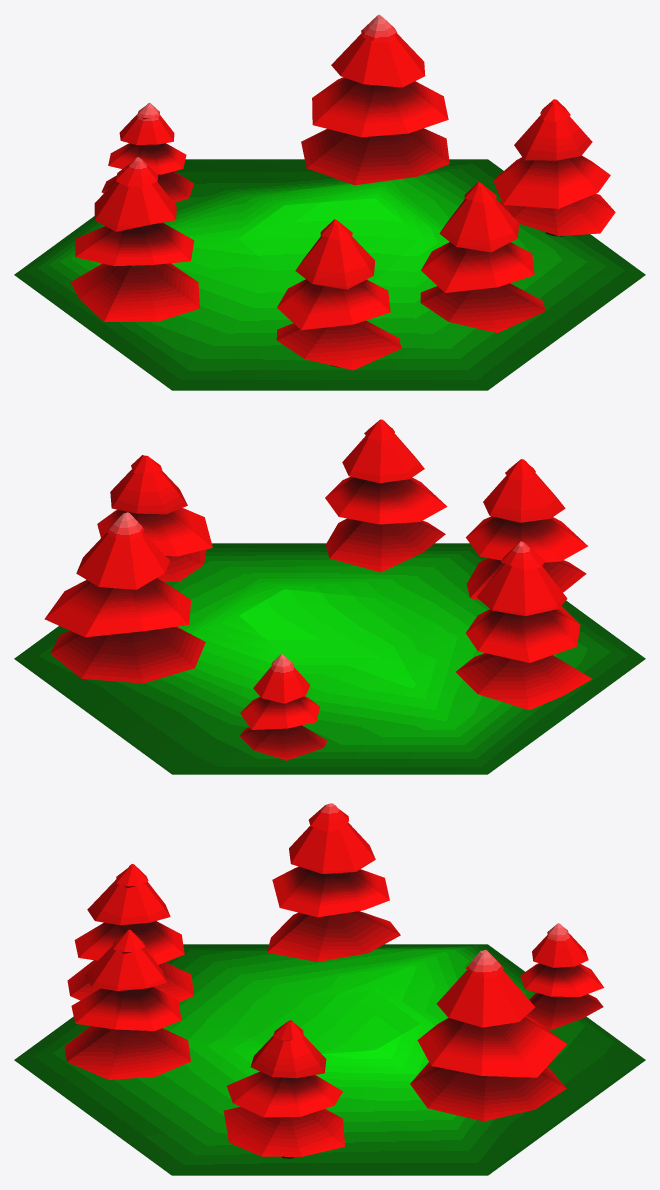
File: ForrestCol.fbx
3 renders of one model, top to bottom at view 1: azimuth 30°, elevation 25°; view 2: azimuth 150°, elevation 25°; view 3: azimuth 270°, elevation 25°, orthographic.
Visible parts, largest first — view 1: Ground, Tree_Bottom_Leaves, Tree_Leaves_Middle, Tree_Bottom_Leaves.005, Tree_Leaves_Middle.001, Tree_Leaves_Middle.002, Tree_Leaves_Middle.003, Tree_Leaves_Top, Tree_Bottom_Leaves.002, Tree_Leaves_Middle.005, Tree_Bottom_Leaves.003, Tree_Leaves_Top.005 (+7 smaller); view 2: Ground, Tree_Bottom_Leaves, Tree_Leaves_Middle, Tree_Bottom_Leaves.005, Tree_Leaves_Middle.005, Tree_Leaves_Top, Tree_Bottom_Leaves.002, Tree_Leaves_Middle.002, Tree_Leaves_Top.005, Tree_Leaves_Middle.003, Tree_Leaves_Top.002, Tree_Leaves_Top.003 (+7 smaller); view 3: Ground, Tree_Leaves_Middle, Tree_Bottom_Leaves, Tree_Bottom_Leaves.002, Tree_Bottom_Leaves.005, Tree_Bottom_Leaves.001, Tree_Leaves_Middle.005, Tree_Leaves_Top, Tree_Leaves_Top.005, Tree_Leaves_Middle.002, Tree_Leaves_Middle.001, Tree_Leaves_Top.003 (+7 smaller).
Part boxes in pixels (x1=…): Ground: x1=14, y1=159, x2=645, y2=390; Tree_Bottom_Leaves: x1=301, y1=128, x2=449, y2=185; Tree_Leaves_Middle: x1=312, y1=77, x2=448, y2=137; Tree_Bottom_Leaves.005: x1=70, y1=263, x2=199, y2=321; Tree_Leaves_Middle.001: x1=493, y1=155, x2=610, y2=208; Tree_Leaves_Middle.002: x1=421, y1=242, x2=534, y2=292; Tree_Leaves_Middle.003: x1=277, y1=279, x2=390, y2=330; Tree_Leaves_Top: x1=331, y1=14, x2=425, y2=87; Tree_Bottom_Leaves.002: x1=420, y1=283, x2=545, y2=332; Tree_Leaves_Middle.005: x1=75, y1=222, x2=194, y2=266; Tree_Bottom_Leaves.003: x1=276, y1=320, x2=401, y2=370; Tree_Leaves_Top.005: x1=94, y1=157, x2=176, y2=231; Ground: x1=14, y1=543, x2=645, y2=774; Tree_Bottom_Leaves: x1=50, y1=626, x2=205, y2=683; Tree_Leaves_Middle: x1=44, y1=578, x2=191, y2=637; Tree_Bottom_Leaves.005: x1=456, y1=653, x2=591, y2=710; Tree_Leaves_Middle.005: x1=465, y1=606, x2=580, y2=662; Tree_Leaves_Top: x1=76, y1=512, x2=169, y2=589; Tree_Bottom_Leaves.002: x1=326, y1=518, x2=445, y2=572; Tree_Leaves_Middle.002: x1=325, y1=476, x2=447, y2=524; Tree_Leaves_Top.005: x1=477, y1=541, x2=567, y2=616; Tree_Leaves_Middle.003: x1=466, y1=516, x2=587, y2=562; Tree_Leaves_Top.002: x1=342, y1=419, x2=424, y2=483; Tree_Leaves_Top.003: x1=483, y1=459, x2=565, y2=522; Ground: x1=14, y1=944, x2=645, y2=1175; Tree_Leaves_Middle: x1=417, y1=1015, x2=566, y2=1077; Tree_Bottom_Leaves: x1=410, y1=1062, x2=566, y2=1121; Tree_Bottom_Leaves.002: x1=64, y1=1026, x2=190, y2=1079; Tree_Bottom_Leaves.005: x1=267, y1=911, x2=400, y2=961; Tree_Bottom_Leaves.001: x1=223, y1=1106, x2=344, y2=1156; Tree_Leaves_Middle.005: x1=272, y1=866, x2=389, y2=917; Tree_Leaves_Top: x1=436, y1=950, x2=535, y2=1027; Tree_Leaves_Top.005: x1=289, y1=803, x2=375, y2=873; Tree_Leaves_Middle.002: x1=71, y1=987, x2=181, y2=1030; Tree_Leaves_Middle.001: x1=226, y1=1071, x2=342, y2=1117; Tree_Leaves_Top.003: x1=87, y1=864, x2=170, y2=925.
Size of the model in its own units: 173 by 55.95 by 187.
